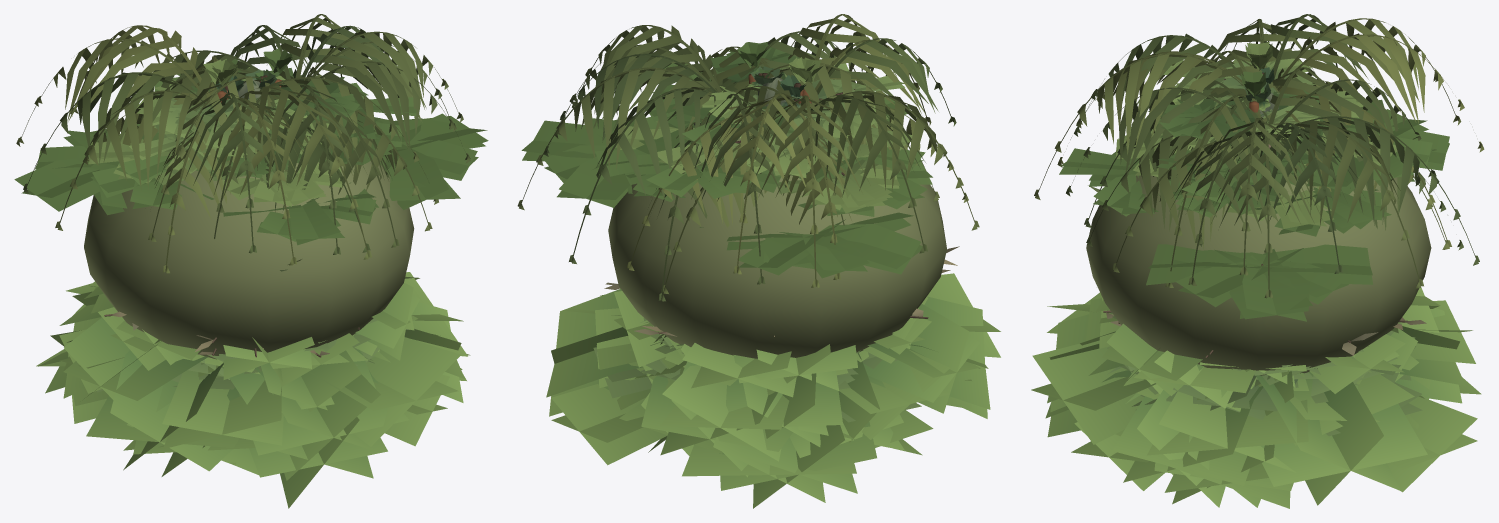
The model's file is plants.glb.
3 renders of one model, left to right at view 1: azimuth 30°, elevation 25°; view 2: azimuth 150°, elevation 25°; view 3: azimuth 270°, elevation 25°, orthographic. The views are drawn at different scales.
Parts seen in each view (by area): view 1: barrel, fir3, palm2, palm, fir3_lo, pine, pine2, pine_lo, pine2_lo, fir; view 2: barrel, fir3, fir3_lo, palm2, palm, pine, pine2, pine2_lo, pine_lo, fir_lo, fir; view 3: barrel, fir3_lo, fir3, palm, pine, palm2, pine_lo, pine2, fir, pine2_lo, fir_lo, scrub2.
Boxes of the visible parts, <box> form: barrel: <box>84,161,414,359</box>; fir3: <box>38,70,464,508</box>; palm2: <box>16,25,438,273</box>; palm: <box>106,14,470,254</box>; fir3_lo: <box>36,70,470,465</box>; pine: <box>14,48,488,241</box>; pine2: <box>88,59,342,206</box>; pine_lo: <box>90,50,485,245</box>; pine2_lo: <box>91,59,329,197</box>; fir: <box>138,69,409,379</box>; barrel: <box>608,137,946,358</box>; fir3: <box>546,69,990,508</box>; fir3_lo: <box>551,69,1000,502</box>; palm2: <box>626,14,979,293</box>; palm: <box>517,25,939,301</box>; pine: <box>521,42,932,278</box>; pine2: <box>652,57,899,213</box>; pine2_lo: <box>615,57,912,206</box>; pine_lo: <box>526,42,925,268</box>; fir_lo: <box>593,66,921,422</box>; fir: <box>640,66,897,385</box>; barrel: <box>1086,152,1431,375</box>; fir3_lo: <box>1031,87,1481,508</box>; fir3: <box>1045,86,1465,507</box>; palm: <box>1066,51,1479,298</box>; pine: <box>1089,71,1449,321</box>; palm2: <box>1034,14,1484,287</box>; pine_lo: <box>1059,71,1436,318</box>; pine2: <box>1115,46,1366,220</box>; fir: <box>1107,82,1401,420</box>; pine2_lo: <box>1129,42,1397,228</box>; fir_lo: <box>1245,82,1422,436</box>; scrub2: <box>1103,310,1426,357</box>.
Bounding box in the file's own units: 1.62 × 1.34 × 1.44.
